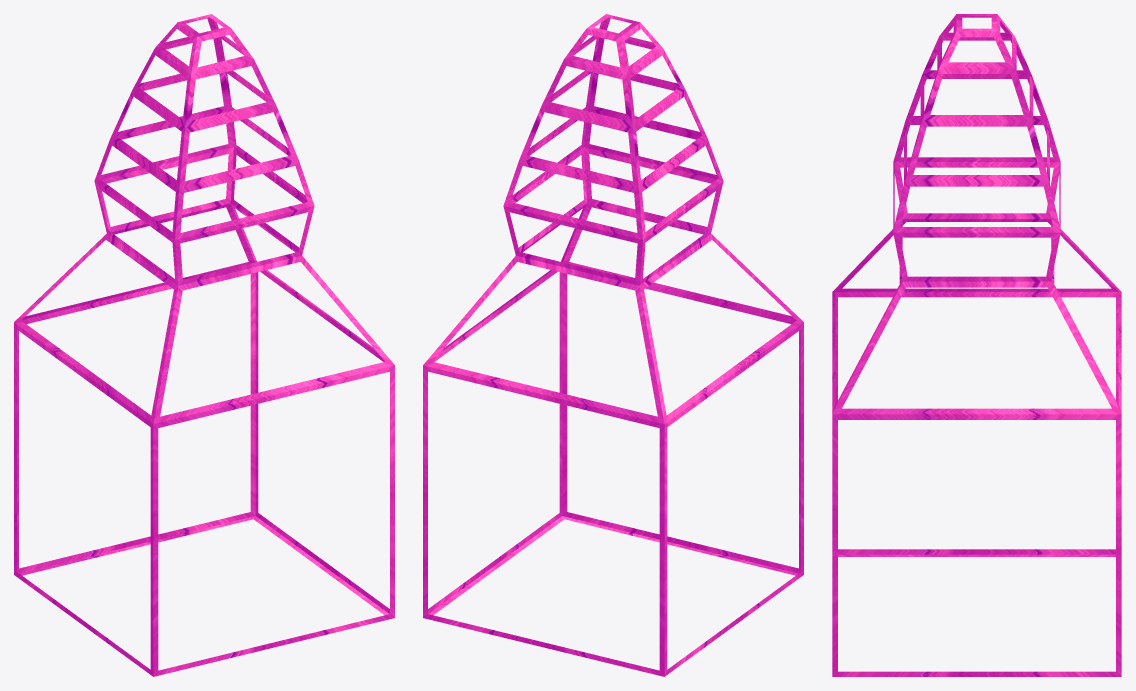
3 views of the same model, side by side, from view 1: azimuth 30°, elevation 25°; view 2: azimuth 150°, elevation 25°; view 3: azimuth 270°, elevation 25° (orthographic). The views are drawn at different scales.
Parts seen in each view (by area): view 1: Cube.001; view 2: Cube.001; view 3: Cube.001.
Part boxes in pixels (x1,y1,x2,y2): Cube.001: (14, 14, 394, 676); Cube.001: (423, 14, 803, 676); Cube.001: (832, 14, 1121, 676).
Size of the model in its own units: 2 by 4.52 by 2.
Materials: 1 (1 with a texture image).
